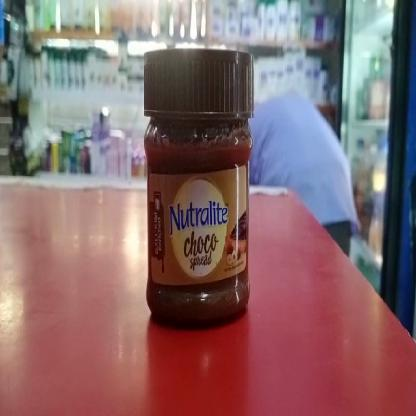Nutralite CHOCO SPREAD CALCIUM 275g: (144, 51, 254, 328)
